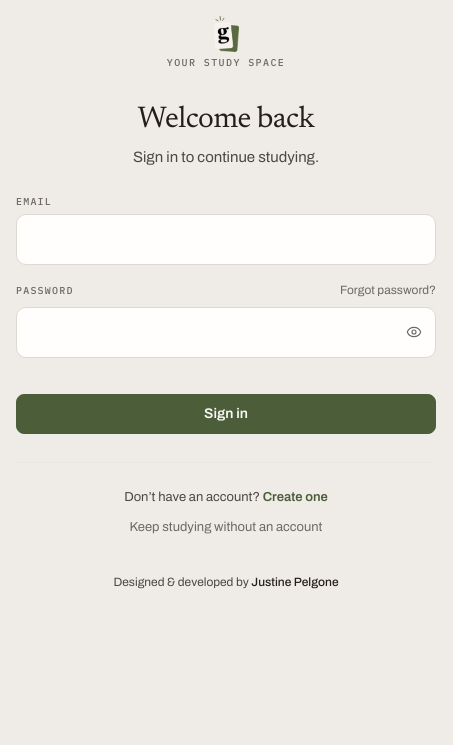
Test: the other two ways in › comes back to signing in
Click the button "Create one" at point(295, 497), box [263,487,328,507]
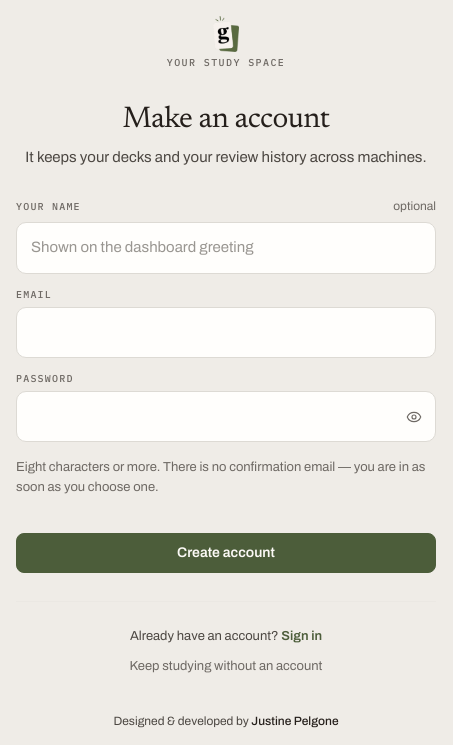
Click the button "Sign in" at point(302, 636), box [281,626,322,646]
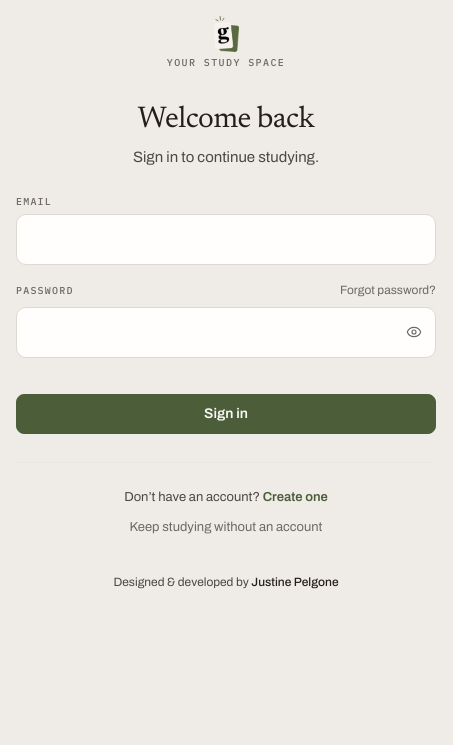
Expected: the heading "Welcome back" is shown, [138,105,314,135]
